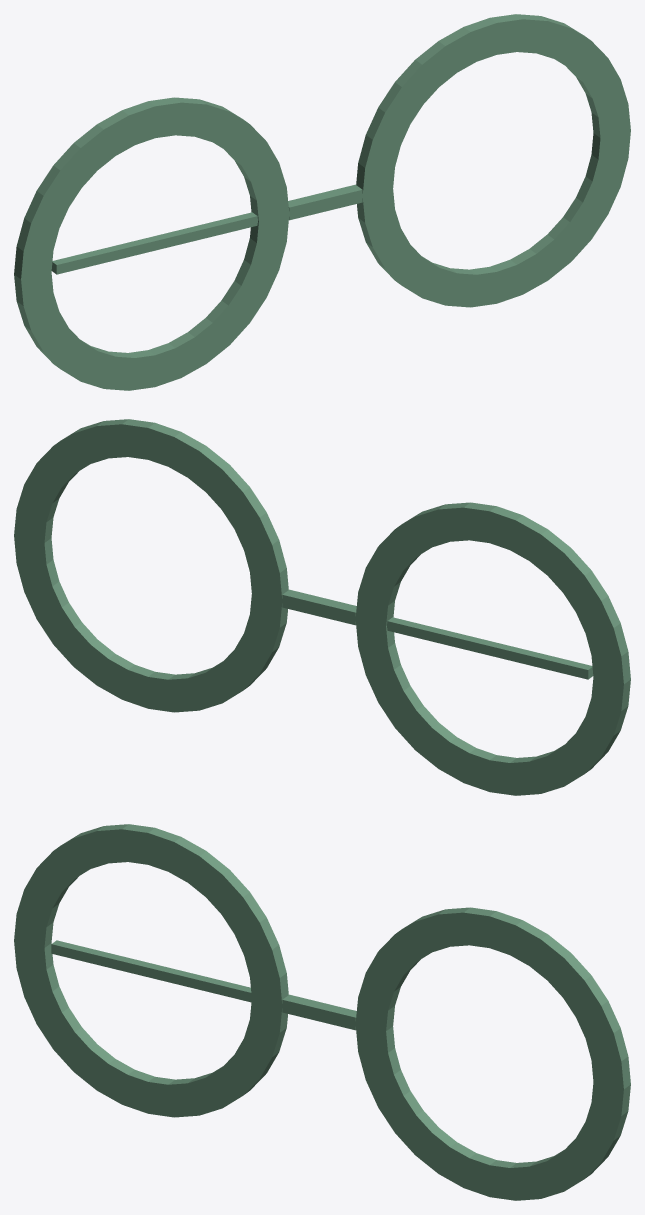
The model's file is brume-verte.glb.
3 views of the same model, one above another, from view 1: azimuth 30°, elevation 25°; view 2: azimuth 150°, elevation 25°; view 3: azimuth 330°, elevation 25° (orthographic).
Visible parts, largest first — view 1: geometry_0; view 2: geometry_0; view 3: geometry_0.
Part boxes in pixels (x1,y1,x2,y2): geometry_0: (14, 14, 630, 390); geometry_0: (14, 419, 630, 795); geometry_0: (14, 824, 630, 1200).
Size of the model in its own units: 1 by 0.44 by 0.02.
